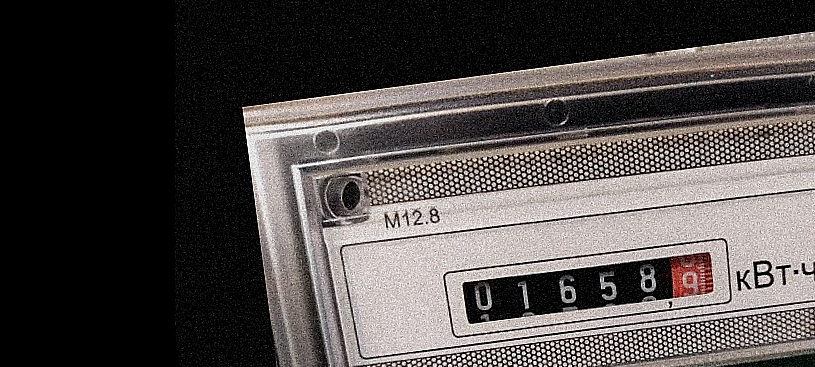0: (471, 279, 495, 311)
1: (514, 277, 535, 311)
5: (596, 267, 621, 301)
6: (556, 270, 580, 305)
8: (636, 259, 660, 293)
9: (678, 268, 702, 298)
screen: (433, 225, 741, 347)
